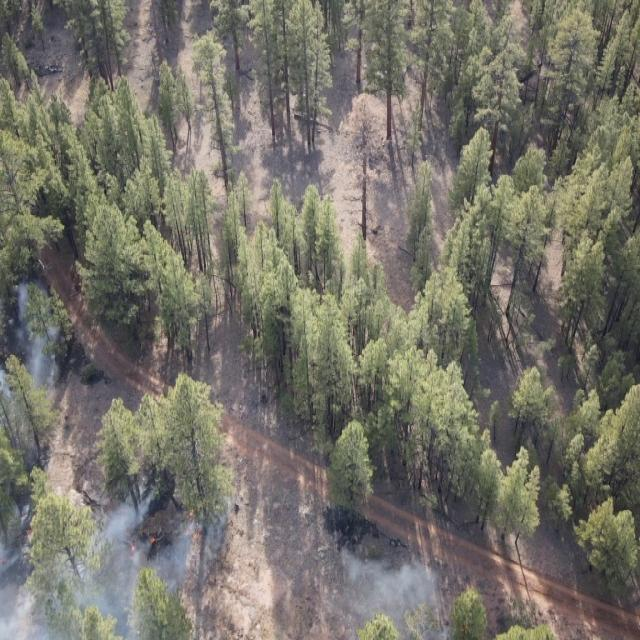fire: (182, 505, 204, 541), (126, 538, 140, 558), (146, 530, 158, 550)
smoke: (0, 476, 234, 636), (330, 545, 454, 640), (0, 284, 63, 436)
